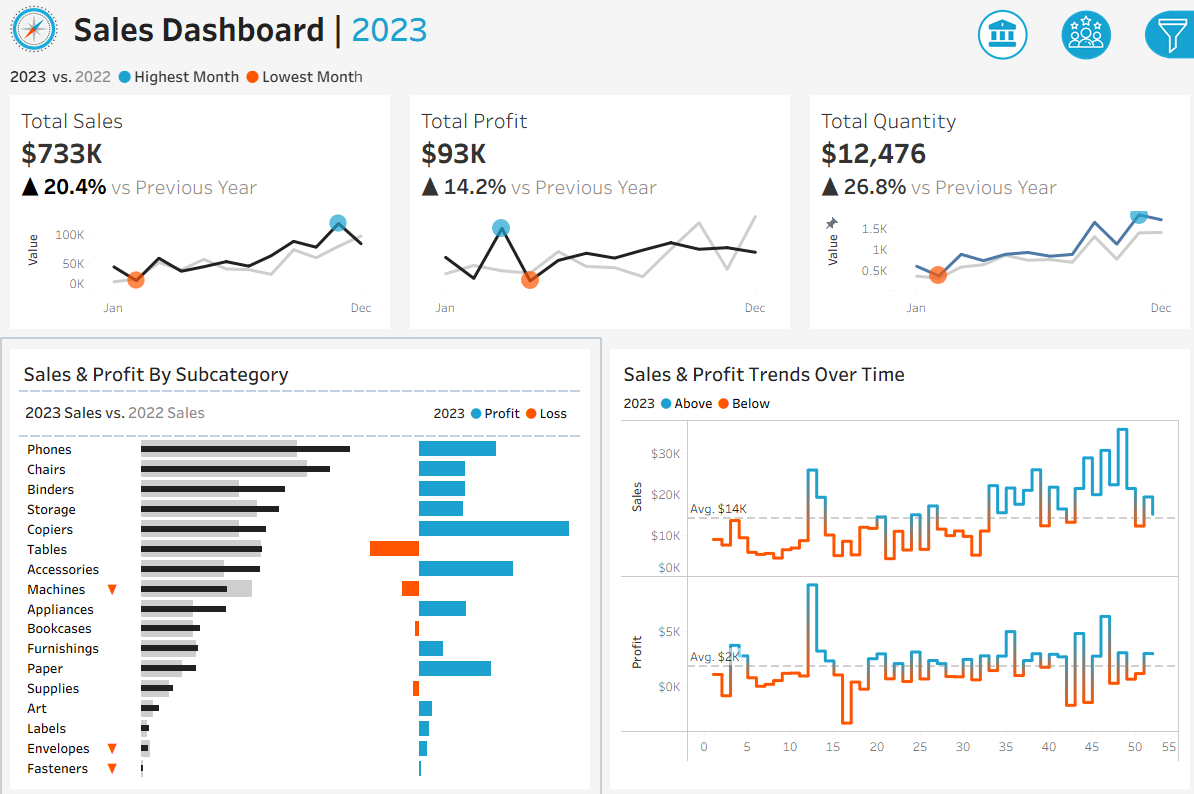

Layout of this report page (visuals, bound fields, positions):
{"tool":"tableau","page":{"name":"Sales Dashboard","canvas":[1200,800],"ordinal":1},"visuals":[{"type":"image","param":"Image/Icon - Logo.png","box":[0,0,67,59]},{"type":"text","box":[67,0,791,59]},{"type":"dashboard-object","box":[960,6,84,59]},{"type":"dashboard-object","box":[1044,6,84,59]},{"type":"blank","box":[973,13,213,86]},{"type":"worksheet","title":"Legends KPIs","mark":"Automatic","box":[0,59,1200,37]},{"type":"worksheet","title":"KPI Sales","mark":"Automatic","rows":["Calculation_0341464303566849"],"cols":["Order Date"],"box":[0,96,400,244]},{"type":"worksheet","title":"KPI Profit","mark":"Line","rows":["Calculation_0341464357113869"],"cols":["Order Date"],"box":[400,96,400,244]},{"type":"worksheet","title":"KPI Quantity","mark":"Automatic","rows":["Calculation_1608652151373827"],"cols":["Order Date"],"box":[800,96,400,244]},{"type":"text","box":[973,99,213,44]},{"type":"parameter","param":"[Parameters].[Parameter 1]","box":[973,143,213,53]},{"type":"blank","box":[973,196,213,32]},{"type":"text","box":[973,228,213,29]},{"type":"filter","title":"KPI Sales","param":"[federated.1e4fxae1wcjxs1162a2g109me07i].[none:Category:nk]","box":[973,257,213,53]},{"type":"filter","title":"KPI Sales","param":"[federated.1e4fxae1wcjxs1162a2g109me07i].[none:Sub-Category:nk]","box":[973,310,213,53]},{"type":"text","box":[17,357,566,34]},{"type":"text","box":[617,357,566,34]},{"type":"text","box":[973,363,213,29]},{"type":"worksheet","title":"Legends Subcategory","mark":"Automatic","box":[17,391,410,45]},{"type":"text","box":[427,391,156,45]},{"type":"text","box":[617,391,566,26]},{"type":"filter","title":"KPI Sales","param":"[federated.1e4fxae1wcjxs1162a2g109me07i].[none:Region:nk]","box":[973,392,213,53]},{"type":"worksheet","title":"Weekly Trends","mark":"Automatic","rows":["Calculation_0213370908160001","Calculation_0341464348483592"],"cols":["Order Date"],"box":[617,417,566,350]},{"type":"worksheet","title":"SubCategory Comparison","mark":"Bar","rows":["Sub-Category","Calculation_1010792753958914"],"cols":["Calculation_0213370908950530","Calculation_0213370908160001","Calculation_0341464348483592"],"box":[17,436,566,346.9]},{"type":"filter","title":"KPI Sales","param":"[federated.1e4fxae1wcjxs1162a2g109me07i].[none:State:nk]","box":[973,445,213,53]},{"type":"filter","title":"KPI Sales","param":"[federated.1e4fxae1wcjxs1162a2g109me07i].[none:City:nk]","box":[973,498,213,53]}]}

Visuals, with their boxes in screenshot pixels (x1, y1, x2, y2), scaled from the page's 1200x800 canvas onto the 1194x794 screenshot:
image: <box>0,0,67,59</box>
text: <box>67,0,854,59</box>
dashboard-object: <box>955,6,1039,65</box>
dashboard-object: <box>1039,6,1122,65</box>
blank: <box>968,13,1180,98</box>
"Legends KPIs" worksheet: <box>0,59,1193,95</box>
"KPI Sales" worksheet: <box>0,95,398,337</box>
"KPI Profit" worksheet (Line marks): <box>398,95,796,337</box>
"KPI Quantity" worksheet: <box>796,95,1193,337</box>
text: <box>968,98,1180,142</box>
parameter: <box>968,142,1180,195</box>
blank: <box>968,195,1180,226</box>
text: <box>968,226,1180,255</box>
"KPI Sales" filter: <box>968,255,1180,308</box>
"KPI Sales" filter: <box>968,308,1180,360</box>
text: <box>17,354,580,388</box>
text: <box>614,354,1177,388</box>
text: <box>968,360,1180,389</box>
"Legends Subcategory" worksheet: <box>17,388,425,433</box>
text: <box>425,388,580,433</box>
text: <box>614,388,1177,414</box>
"KPI Sales" filter: <box>968,389,1180,442</box>
"Weekly Trends" worksheet: <box>614,414,1177,761</box>
"SubCategory Comparison" worksheet (Bar marks): <box>17,433,580,777</box>
"KPI Sales" filter: <box>968,442,1180,494</box>
"KPI Sales" filter: <box>968,494,1180,547</box>
